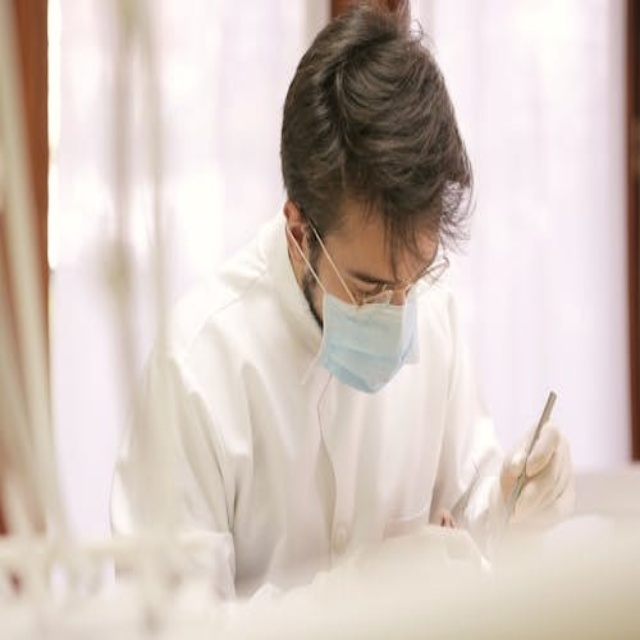Gafas: (302, 206, 453, 308)
Guantes: (499, 419, 575, 534)
Mascara: (308, 223, 422, 394)
